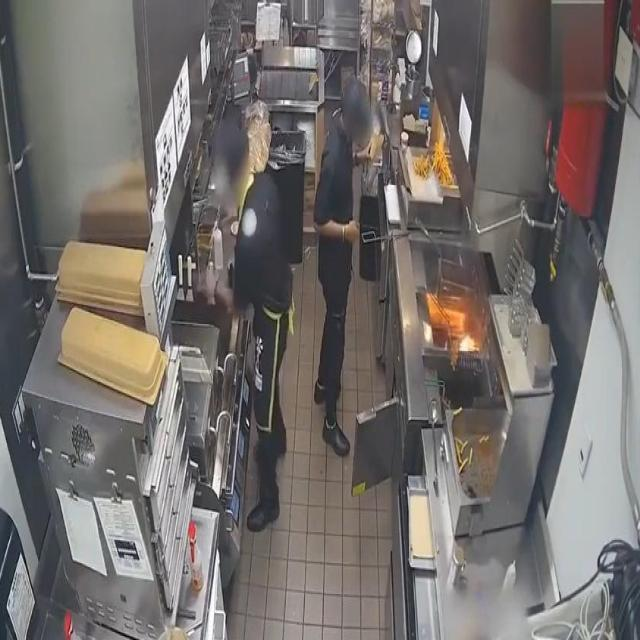smoke: (458, 330, 479, 352)
